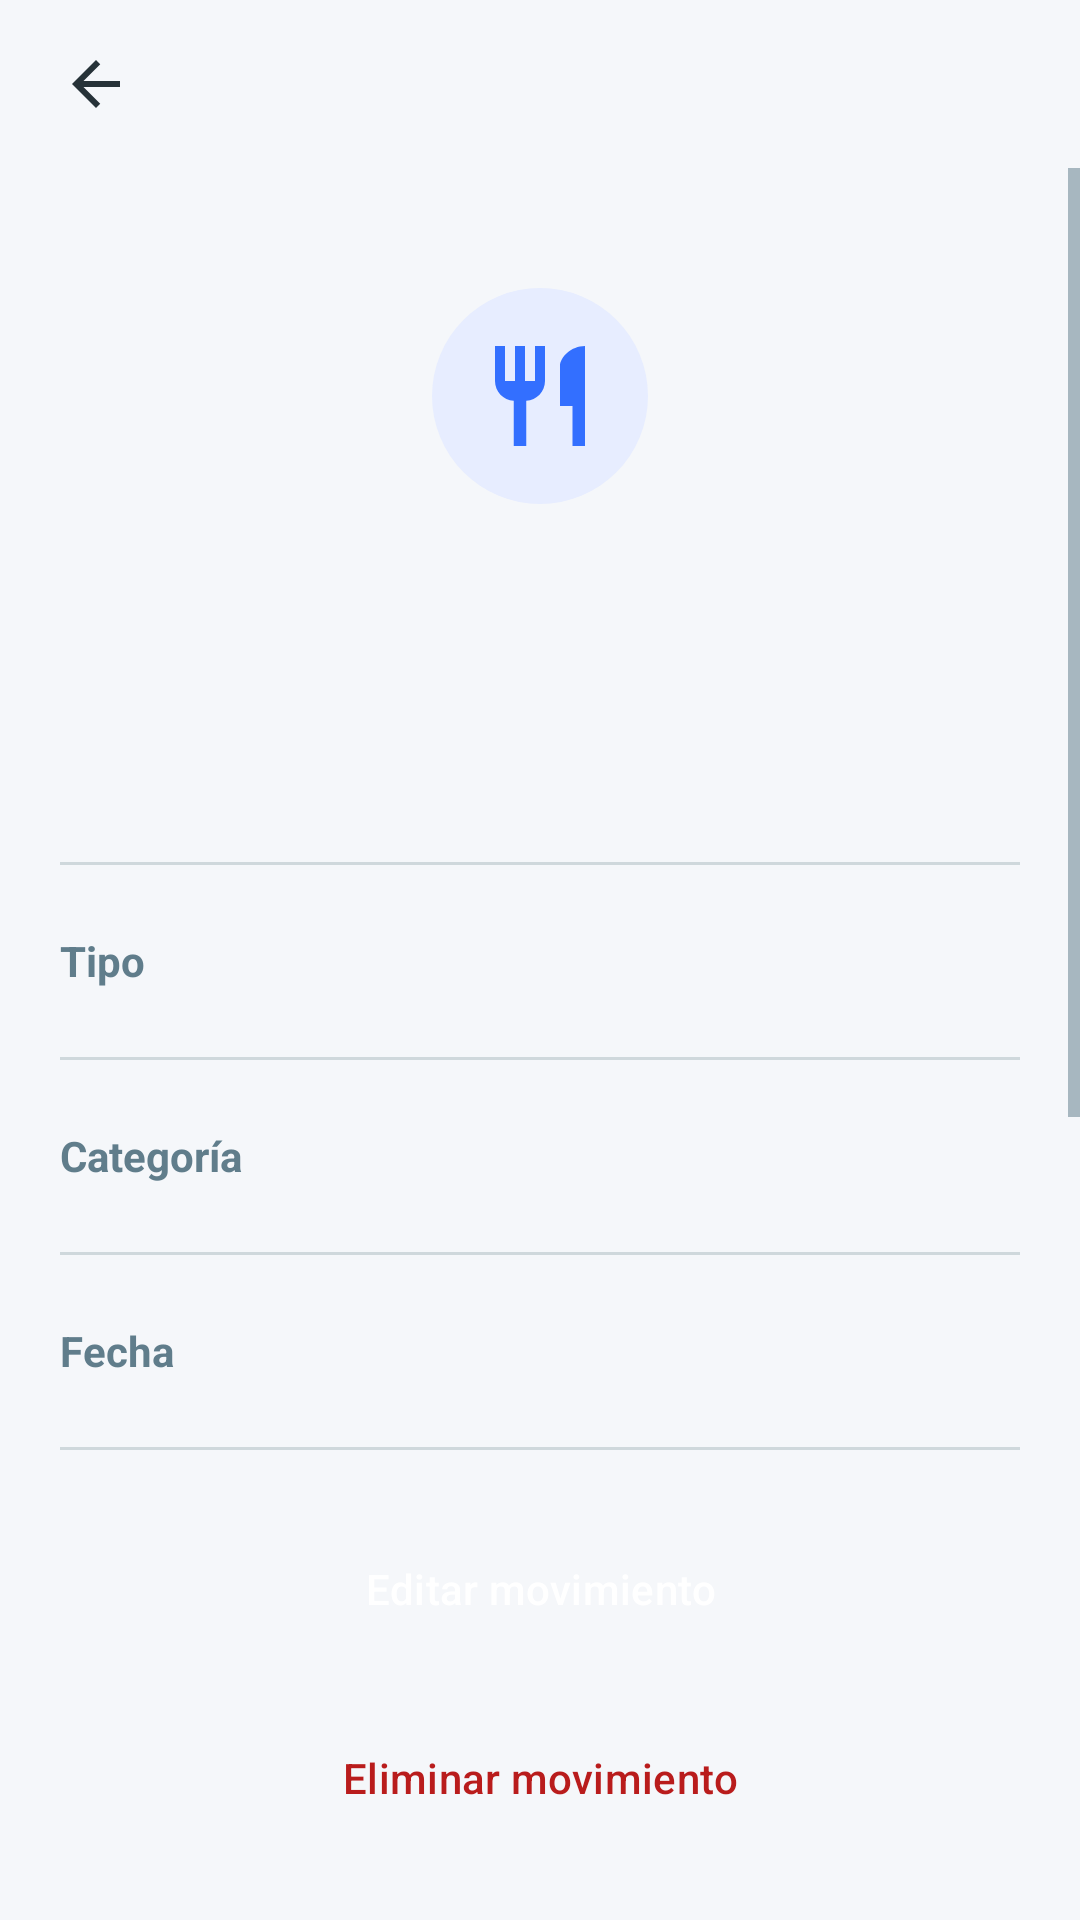

Screen size 1080 × 1920. Icon name, then its box in pixels as [x1,y1,x2,y2]:
Icono de la categoría: [432,288,648,504]
Volver: [72,60,120,108]
